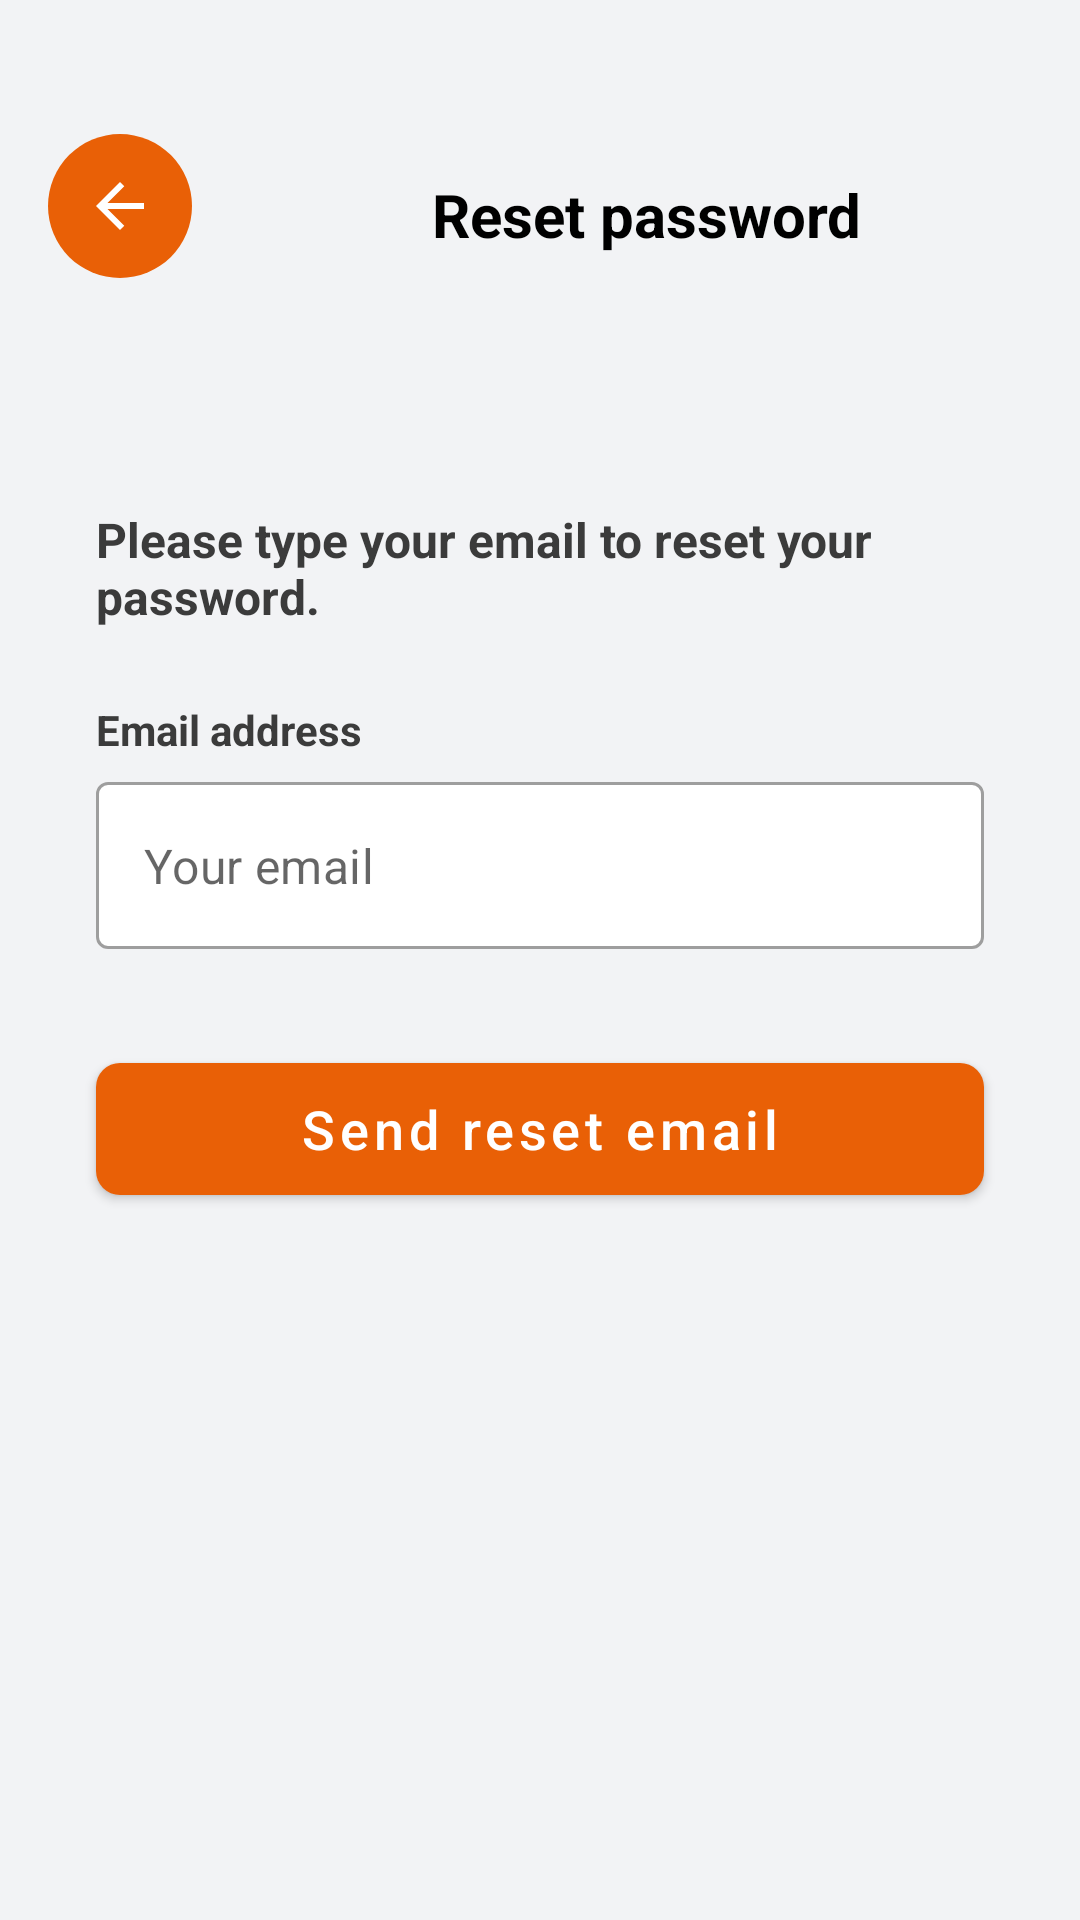

Screen size 1080x1920. Icon name, then its center in pixels as (x,y):
Back: (120,206)
